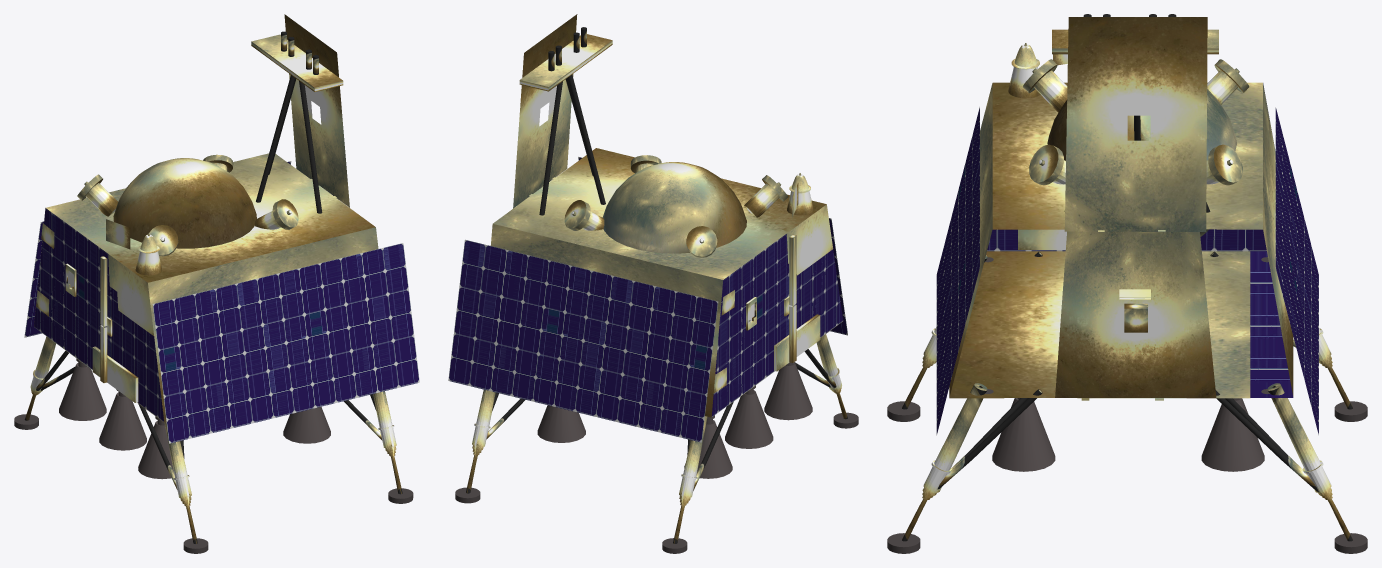
File: vikram_lander.glb
3 renders of one model, left to right at view 1: azimuth 30°, elevation 25°; view 2: azimuth 150°, elevation 25°; view 3: azimuth 270°, elevation 25°, orthographic. The views are drawn at different scales.
Visible parts, largest first — view 1: Object_6, Object_4, Object_9, Object_5, Object_7; view 2: Object_6, Object_4, Object_9, Object_5, Object_7; view 3: Object_4, Object_6, Object_9, Object_7, Object_5.
Boxes of the visible parts, x1,y1,x2,y2 form: Object_6: (24,161,419,443); Object_4: (24,14,402,543); Object_9: (59,358,330,479); Object_5: (66,49,365,420); Object_7: (14,414,413,553); Object_6: (448,157,847,442); Object_4: (466,14,847,543); Object_9: (537,362,812,478); Object_5: (573,27,820,371); Object_7: (455,412,858,553); Object_4: (902,14,1352,541); Object_6: (936,86,1318,435); Object_9: (992,398,1264,471); Object_7: (887,257,1367,553); Object_5: (968,14,1110,453).
Size of the model in its own units: 159 by 236 by 194.
Materials: 7 (2 with a texture image).
